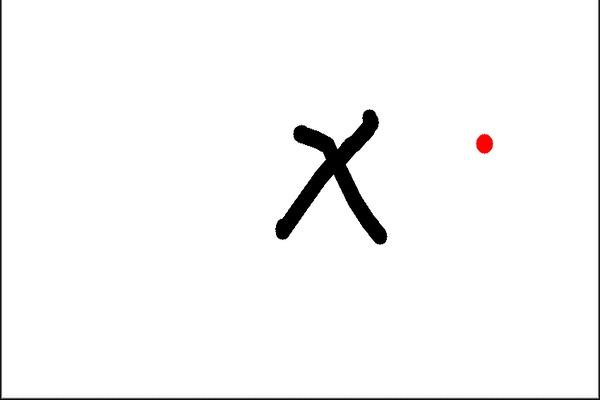Z: (257, 97, 415, 266)
